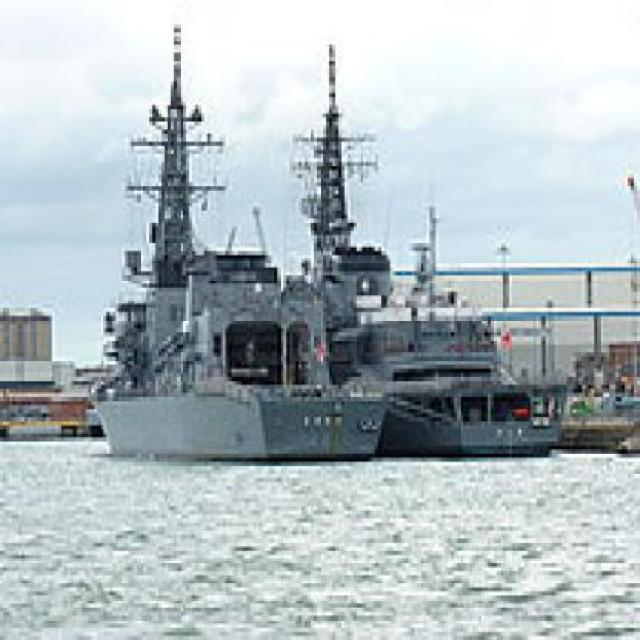warship2: (65, 25, 397, 471), (306, 34, 571, 463)
